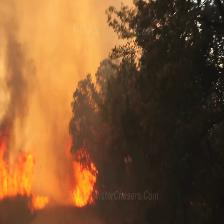fire: (0, 119, 118, 215)
smoke: (1, 3, 134, 144)
